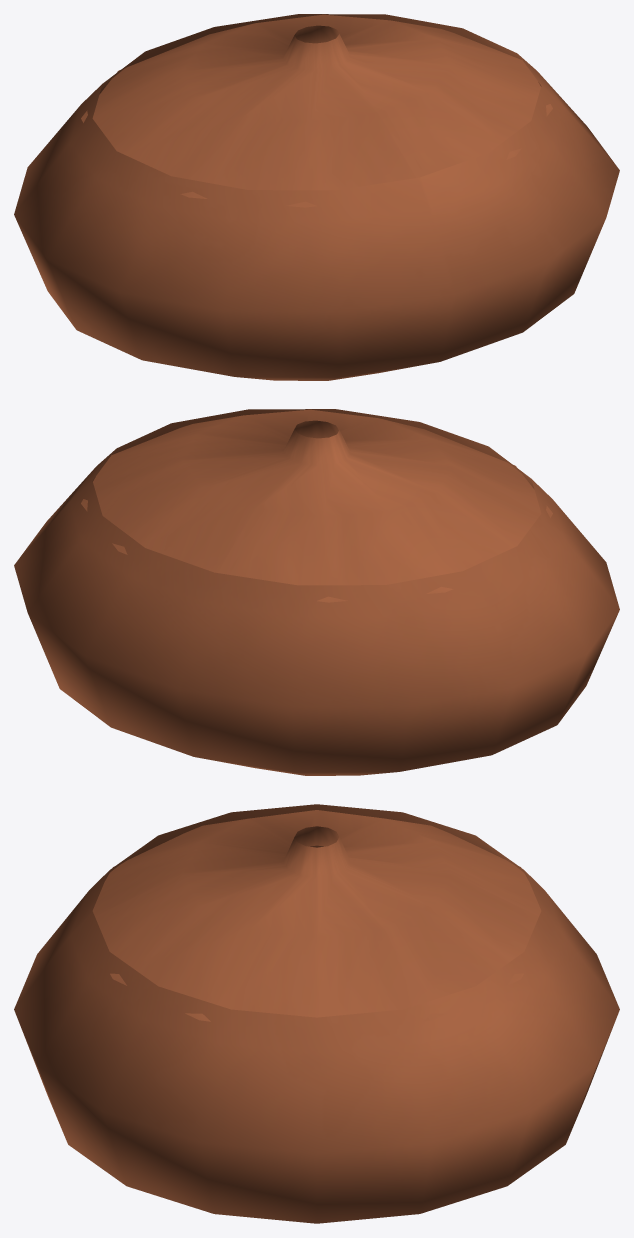
File: Pot_1_Lid.gltf
3 views of the same model, one above another, from view 1: azimuth 30°, elevation 25°; view 2: azimuth 150°, elevation 25°; view 3: azimuth 270°, elevation 25° (orthographic). The views are drawn at different scales.
Visible parts, largest first — view 1: Pot_1_Lid; view 2: Pot_1_Lid; view 3: Pot_1_Lid.
Boxes of the visible parts, bbox=[...] form: Pot_1_Lid: bbox=[14, 14, 619, 380]; Pot_1_Lid: bbox=[14, 409, 619, 775]; Pot_1_Lid: bbox=[14, 804, 619, 1223].
Size of the model in its own units: 0.54 by 0.28 by 0.48.
1 material, 1 textured.
